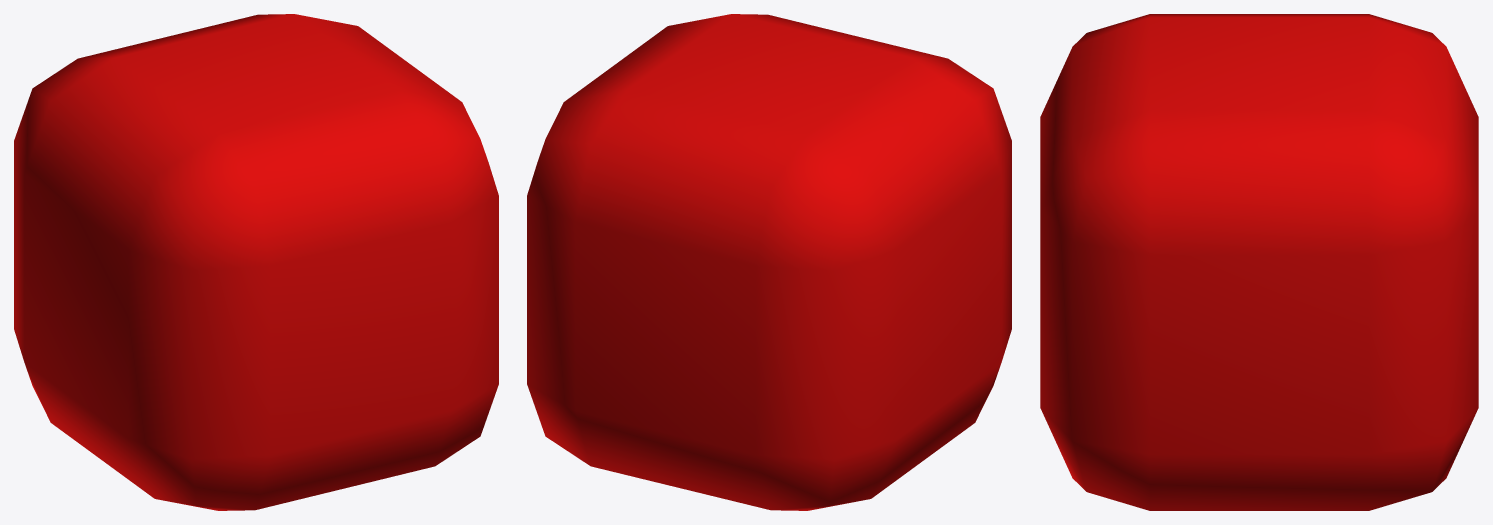
File: Jelly cube.fbx
3 renders of one model, left to right at view 1: azimuth 30°, elevation 25°; view 2: azimuth 150°, elevation 25°; view 3: azimuth 270°, elevation 25°, orthographic. The views are drawn at different scales.
Visible parts, largest first — view 1: Cube Beveled; view 2: Cube Beveled; view 3: Cube Beveled.
Boxes of the visible parts, bbox=[...] form: Cube Beveled: bbox=[14, 14, 498, 510]; Cube Beveled: bbox=[527, 14, 1011, 510]; Cube Beveled: bbox=[1040, 14, 1478, 510].
Bounding box in the file's own units: 51 × 51 × 51.
